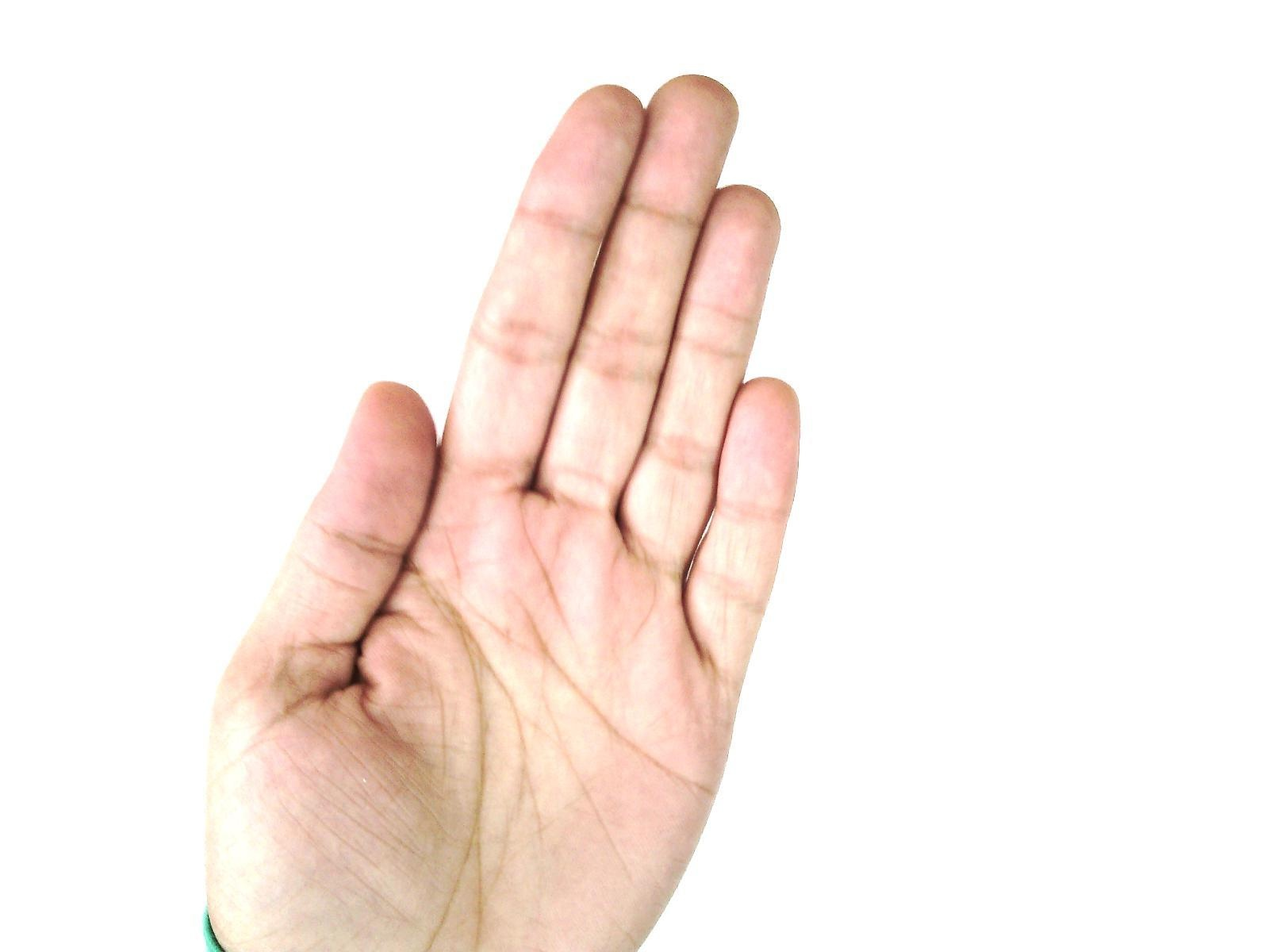open_palm: (201, 73, 804, 952)
